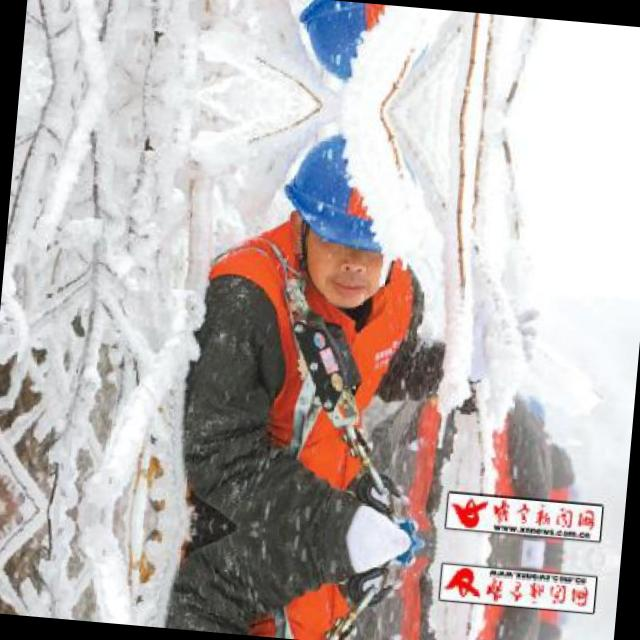helmet: (270, 118, 416, 328), (289, 0, 427, 97)
